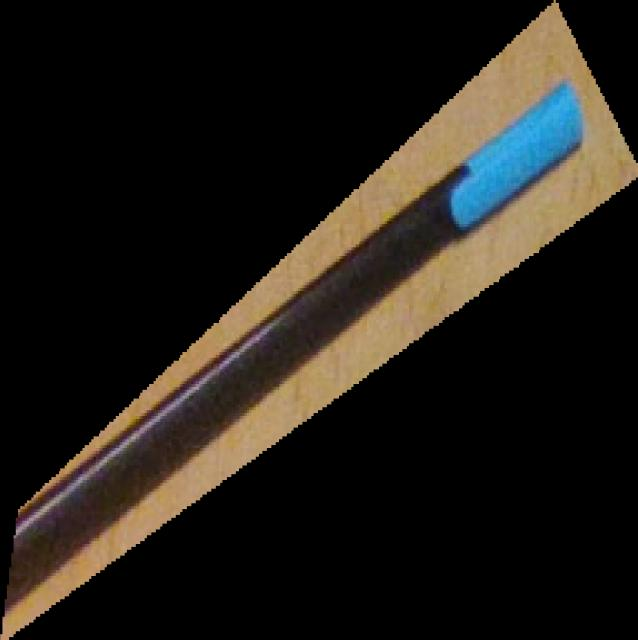blue: (0, 0, 638, 640)
